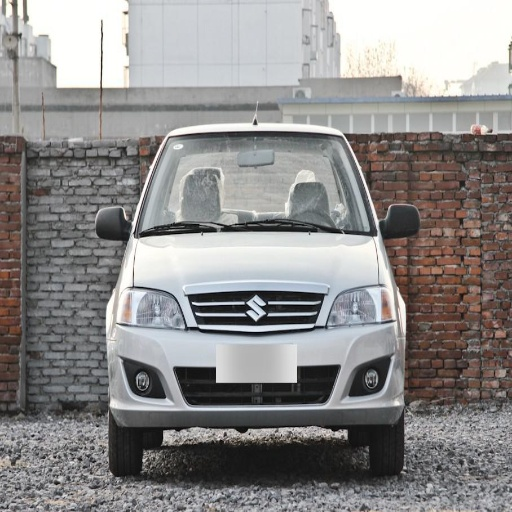front_bumper: (111, 291, 403, 423)
front_right_light: (114, 285, 185, 328)
hood: (133, 235, 382, 328)
left_mirror: (381, 204, 420, 237)
